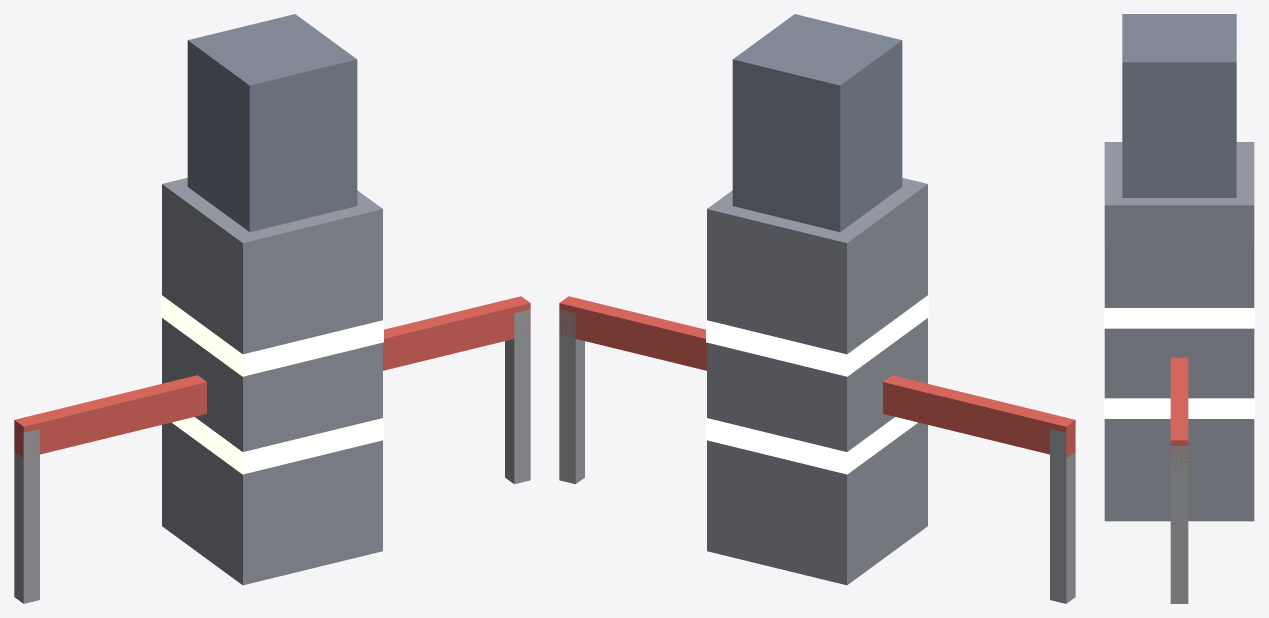
File: props.glb
The picture shows the model from 3 angles, left to right: view 1: azimuth 30°, elevation 25°; view 2: azimuth 150°, elevation 25°; view 3: azimuth 270°, elevation 25°; orthographic projection. The views are drawn at different scales.
Visible parts, largest first — view 1: bldg, bldg2, archTop, bldgwin, bldgwin2, archL, archR; view 2: bldg, bldg2, archTop, bldgwin, bldgwin2, archL, archR; view 3: bldg, bldg2, bldgwin, archR, bldgwin2, archTop.
Part boxes in pixels (x1=…): bldg: x1=162, y1=177, x2=382, y2=585; bldg2: x1=187, y1=14, x2=357, y2=231; archTop: x1=14, y1=296, x2=530, y2=457; bldgwin: x1=161, y1=295, x2=383, y2=376; bldgwin2: x1=172, y1=417, x2=383, y2=474; archL: x1=14, y1=429, x2=39, y2=603; archR: x1=505, y1=309, x2=530, y2=484; bldg: x1=707, y1=177, x2=927, y2=585; bldg2: x1=732, y1=14, x2=902, y2=231; archTop: x1=559, y1=296, x2=1075, y2=457; bldgwin: x1=706, y1=295, x2=928, y2=376; bldgwin2: x1=706, y1=417, x2=917, y2=474; archL: x1=1050, y1=426, x2=1075, y2=603; archR: x1=559, y1=309, x2=584, y2=484; bldg: x1=1104, y1=142, x2=1254, y2=521; bldg2: x1=1122, y1=14, x2=1236, y2=197; bldgwin: x1=1104, y1=244, x2=1254, y2=328; archR: x1=1170, y1=446, x2=1188, y2=603; bldgwin2: x1=1104, y1=335, x2=1254, y2=418; archTop: x1=1170, y1=357, x2=1188, y2=469.
Size of the model in its own units: 21.7 by 20 by 6.05.
